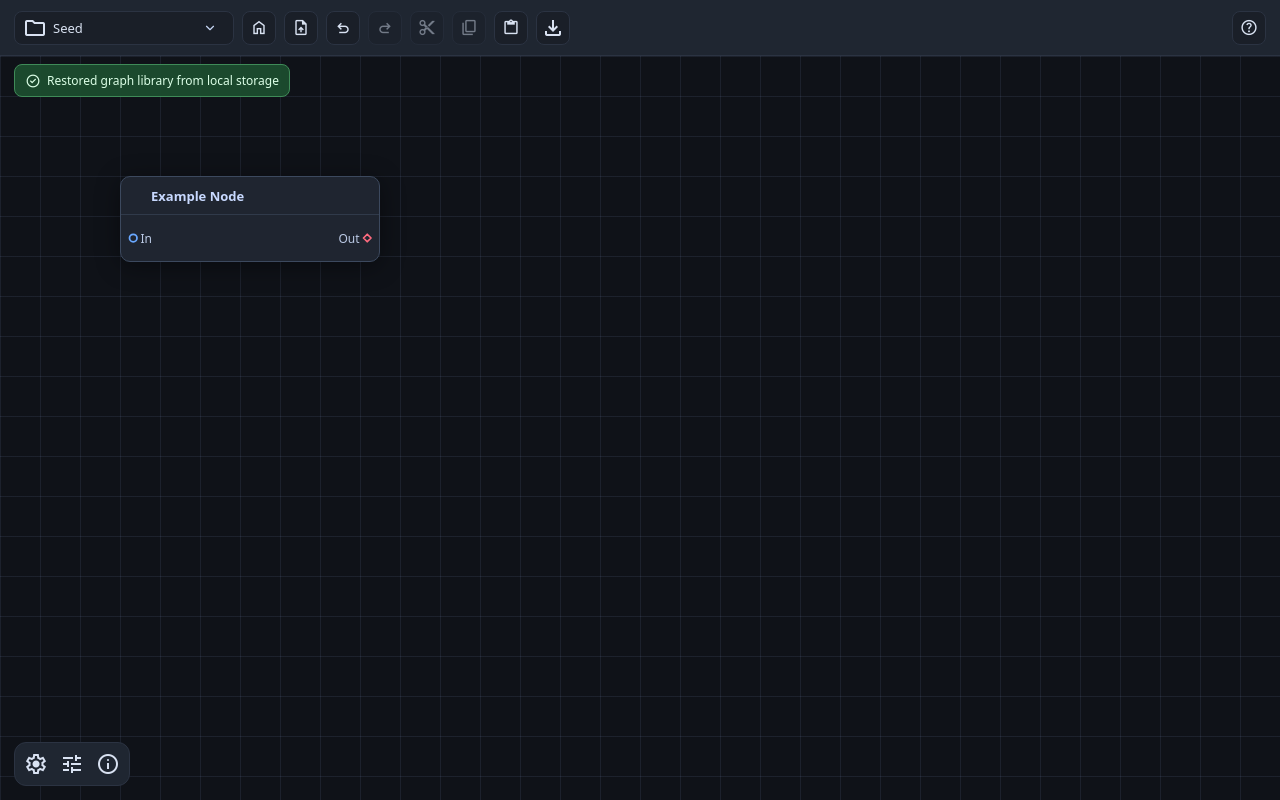
Scenario: Node picker › creates a default node with matching pin style from dragged wire
Press the mouse on the button named "Out (Any Out)" at (367, 238), box [360,232,373,244]
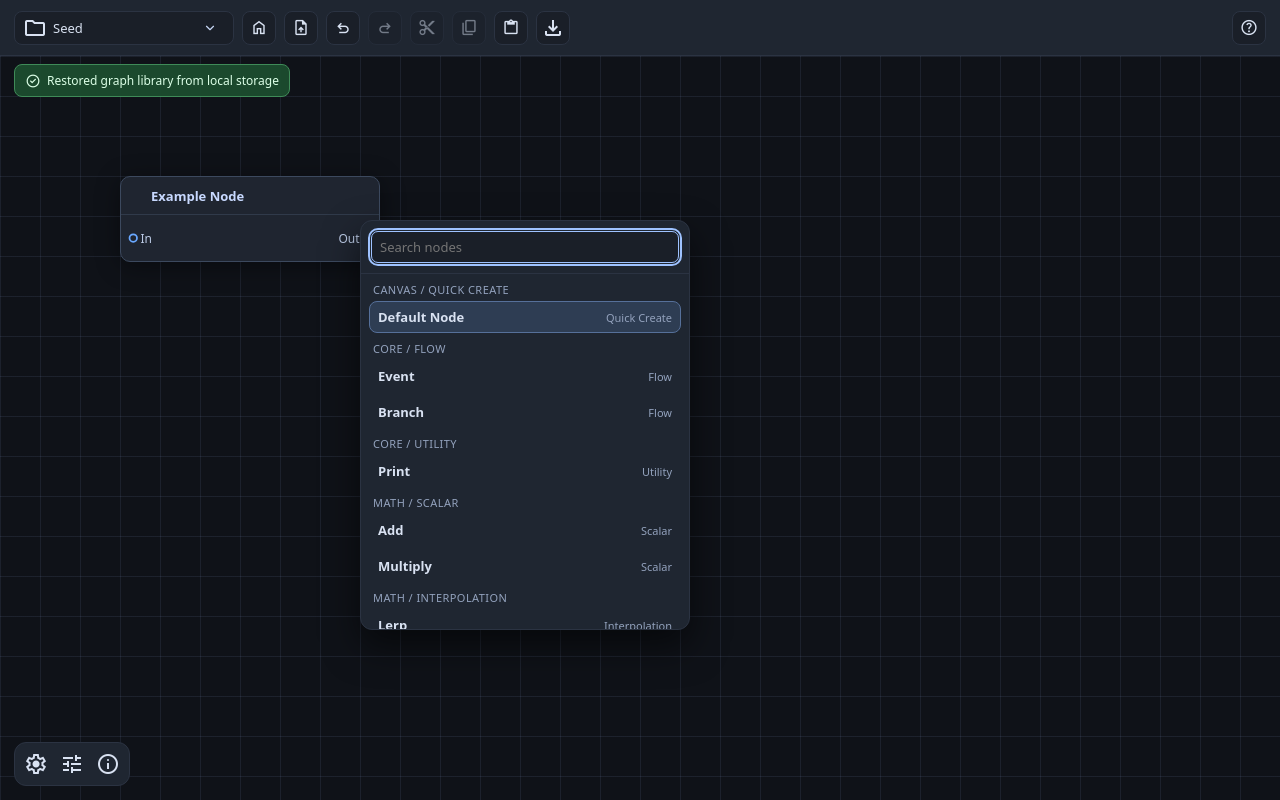
Check: the dialog with class "node-picker" is shown, box [360,220,690,630]
Click the option "Default Node Quick Create" at (421, 317), box [369,301,681,333]
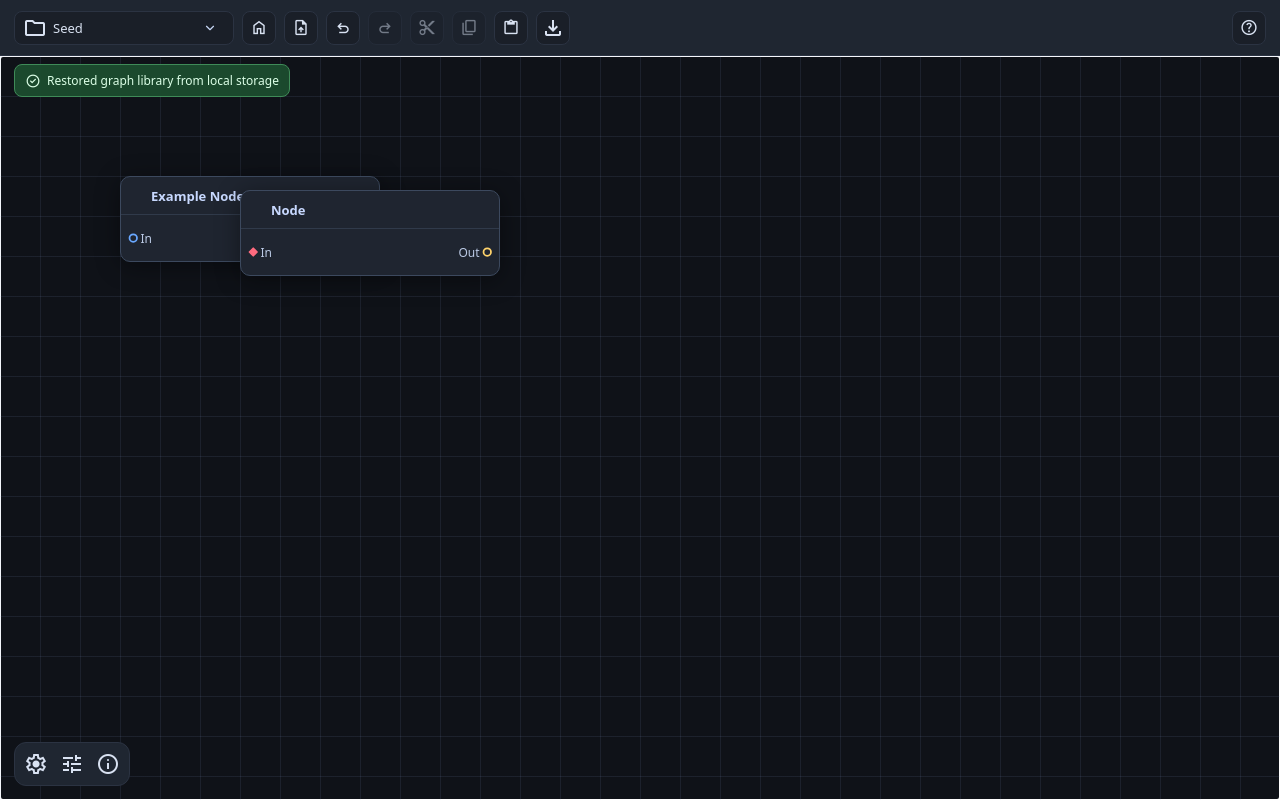
Check: the dialog with class "node-picker" is gone
